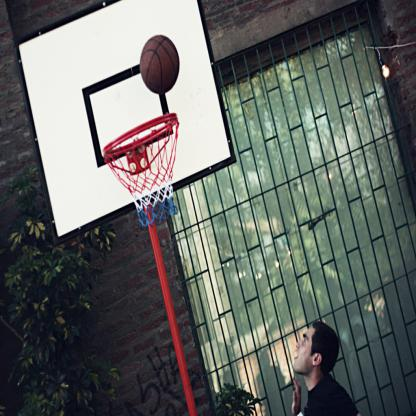Ball: (140, 35, 180, 94)
